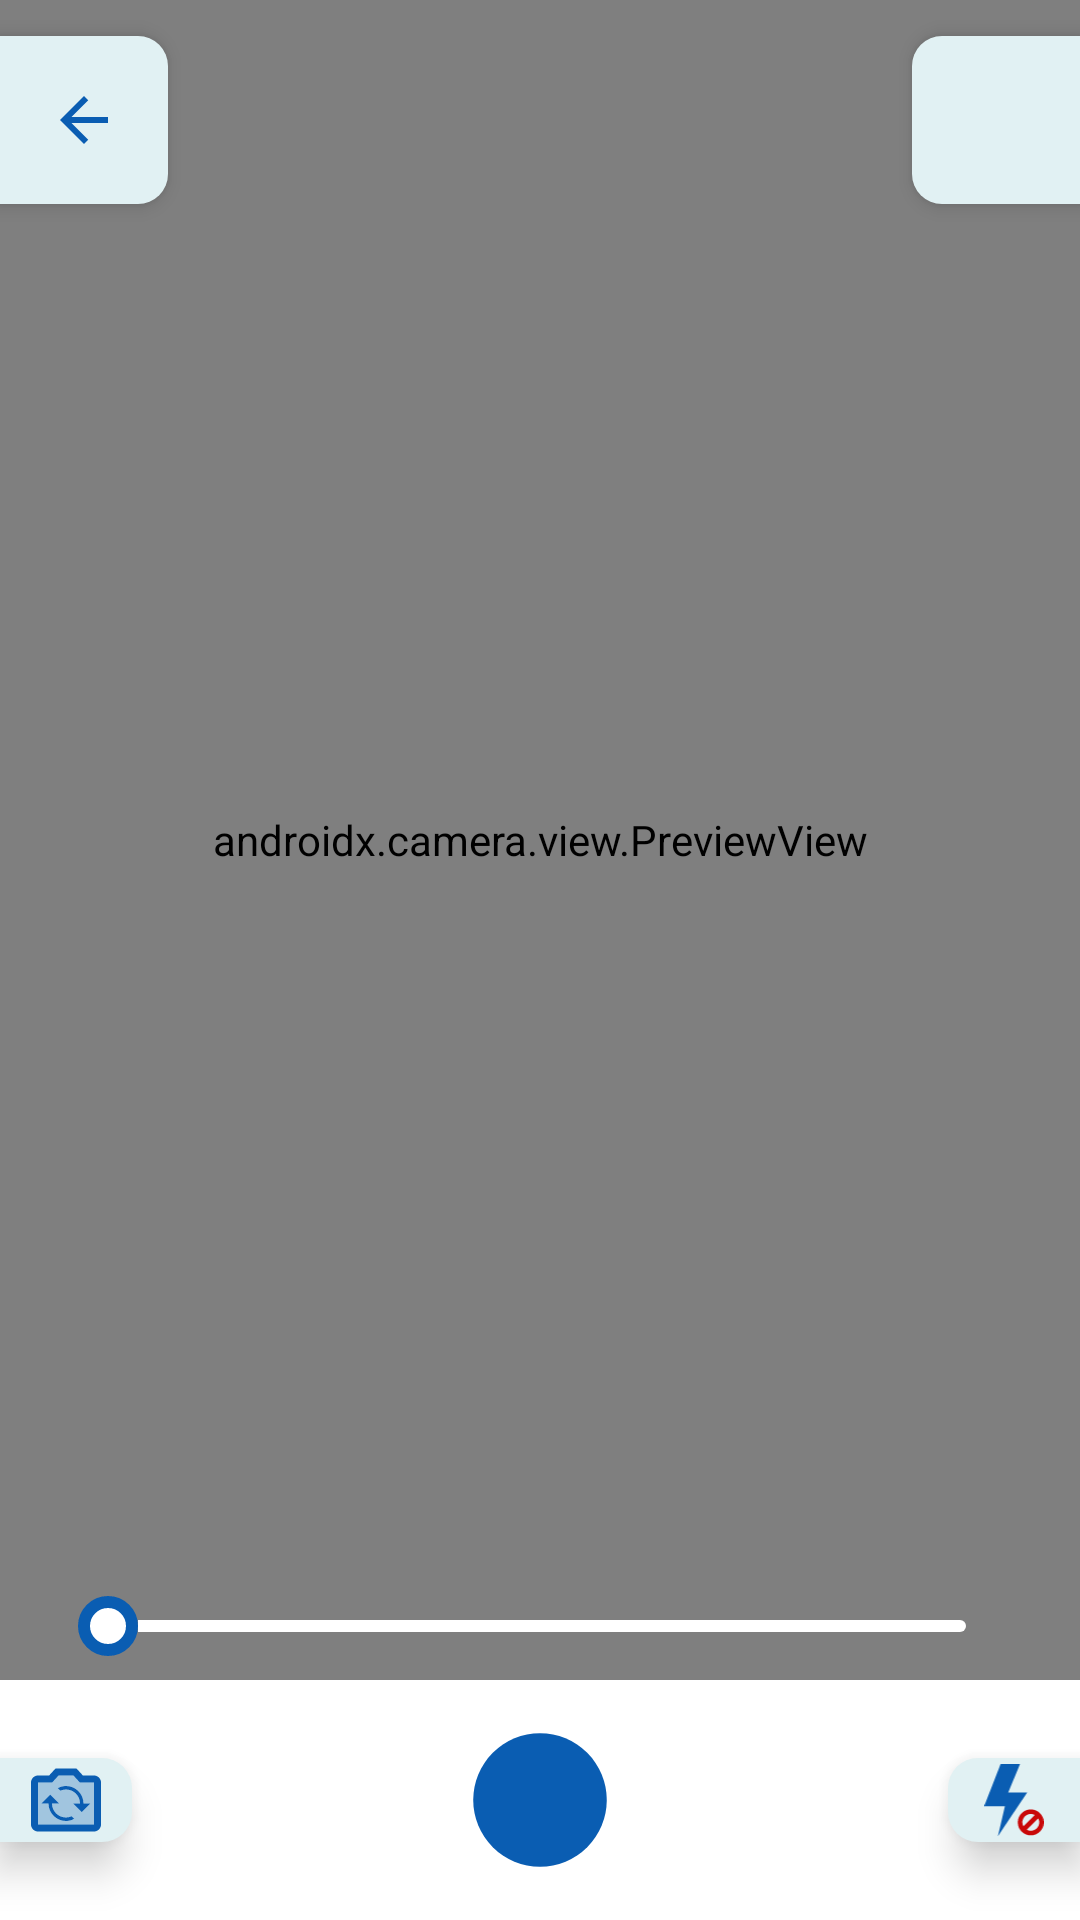

Icon click points for this 1080×1920 phone screenshot, format (x=x, y=y):
flash off: (x=1014, y=1800)
switch camera: (x=66, y=1800)
